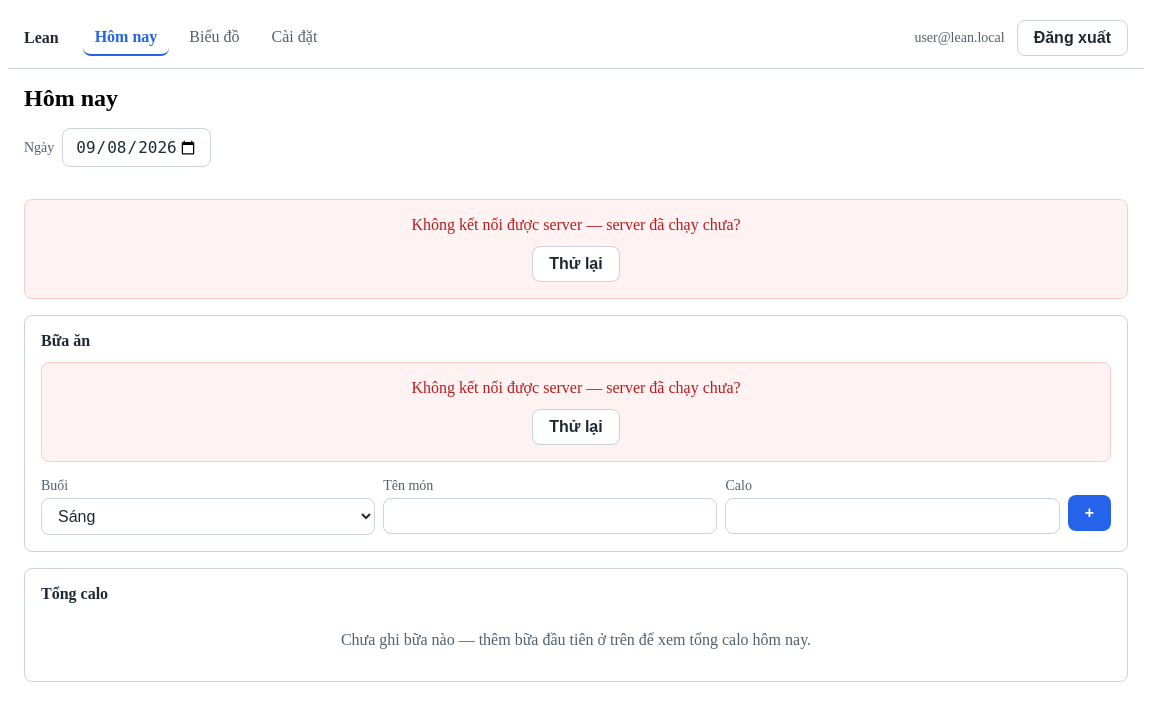
Test: AppLayout: thanh tab — click, đường dẫn đổi, tab đang mở được đánh dấu › bấm qua lại ba tab bằng chuột → nội dung và đường dẫn đổi đúng
The image size is (1152, 720).
Expected: the heading "Hôm nay" is shown, top-left (24, 85), bottom-right (118, 111)
Click the link "Biểu đồ".
click(214, 36)  # box top-left (189, 28), bottom-right (240, 45)
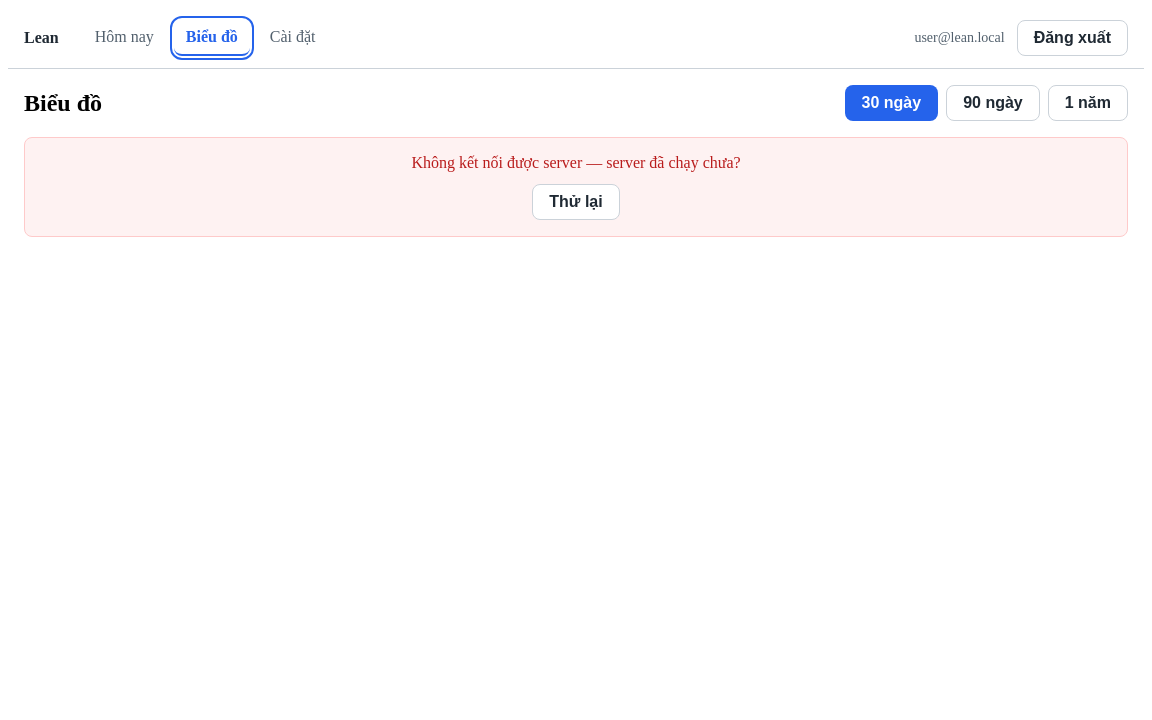
Expected: the heading "Biểu đồ" is shown, top-left (24, 90), bottom-right (102, 116)
Click the link "Cài đặt".
click(293, 36)  # box top-left (270, 28), bottom-right (316, 45)
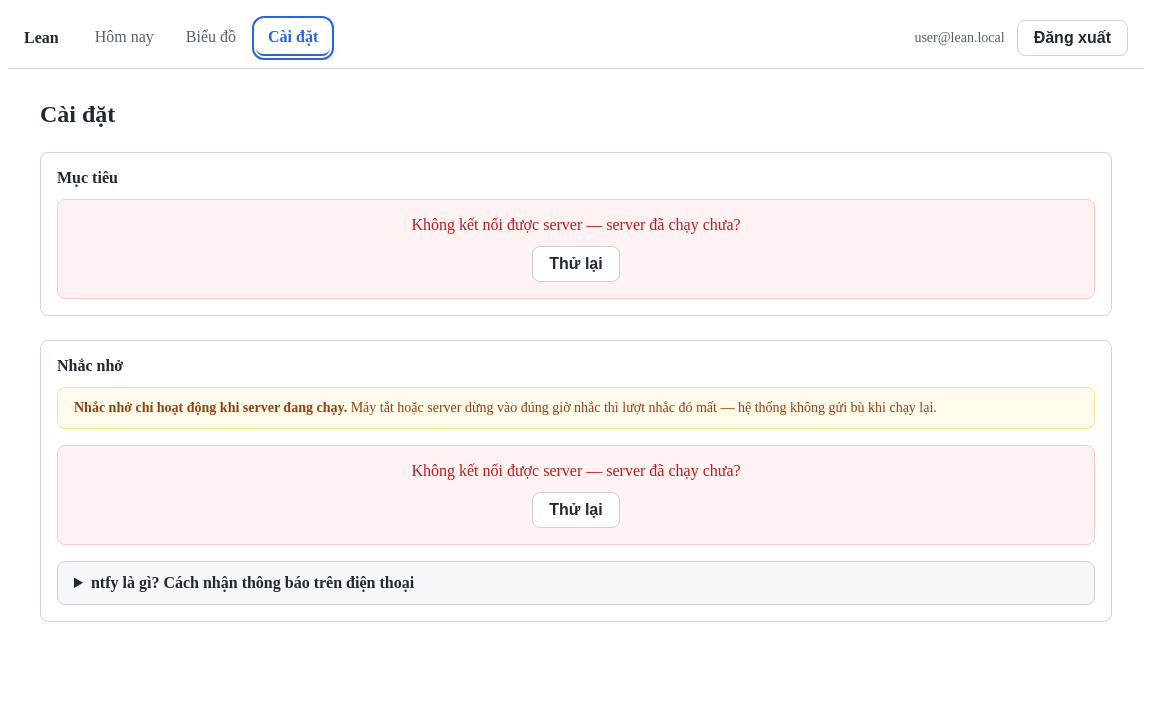
Expected: the heading "Cài đặt" is shown, top-left (40, 101), bottom-right (115, 127)
Click the link "Hôm nay".
click(124, 36)  # box top-left (95, 28), bottom-right (154, 45)
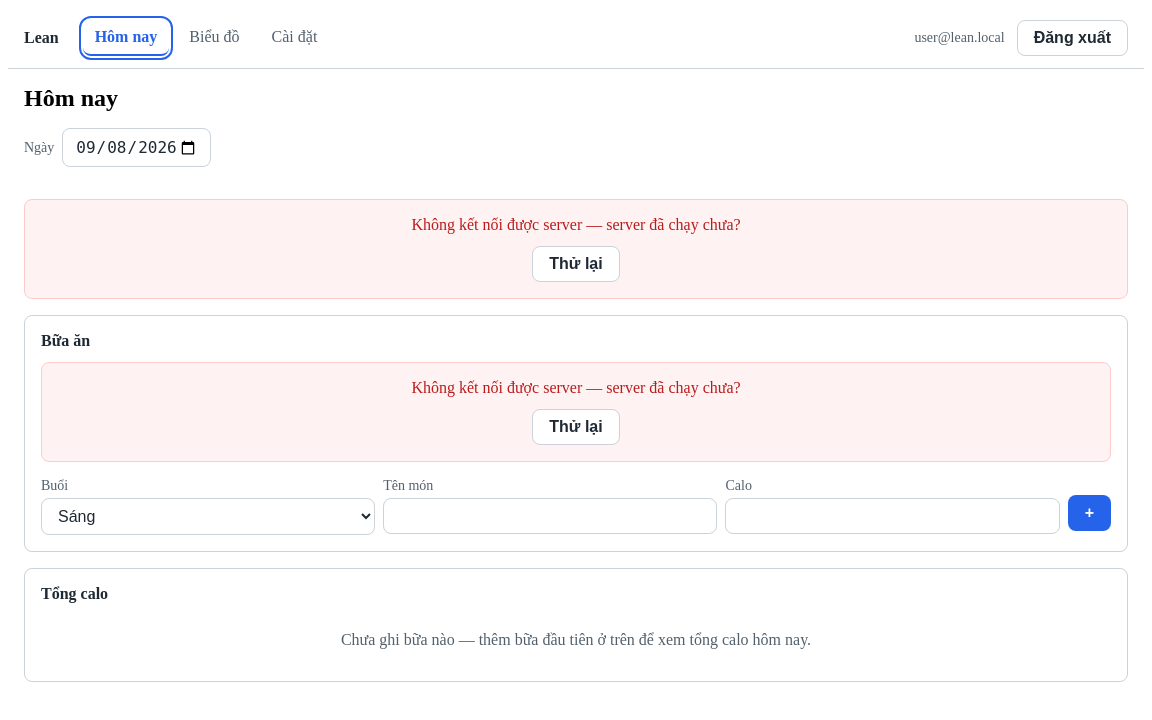
Expected: the heading "Hôm nay" is shown, top-left (24, 85), bottom-right (118, 111)
